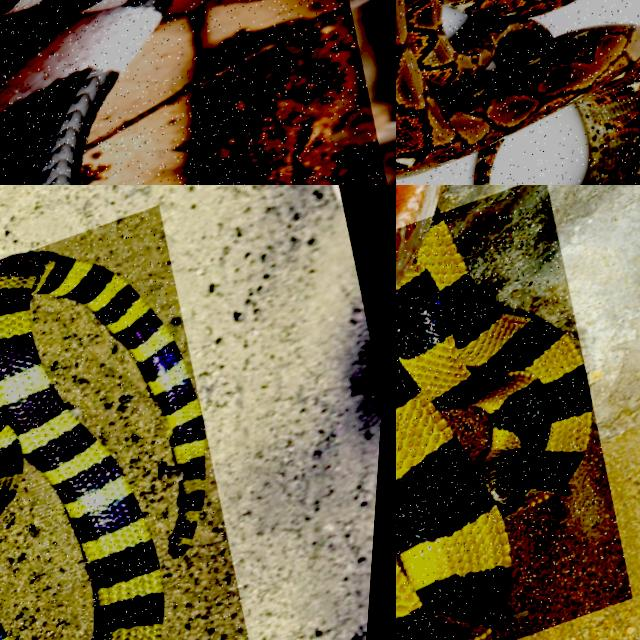Bungarus candidus: (0, 0, 170, 184)
Bungarus fasciatus: (396, 214, 591, 639), (0, 252, 204, 639)
Malayopython reticulatus: (396, 0, 639, 184)
